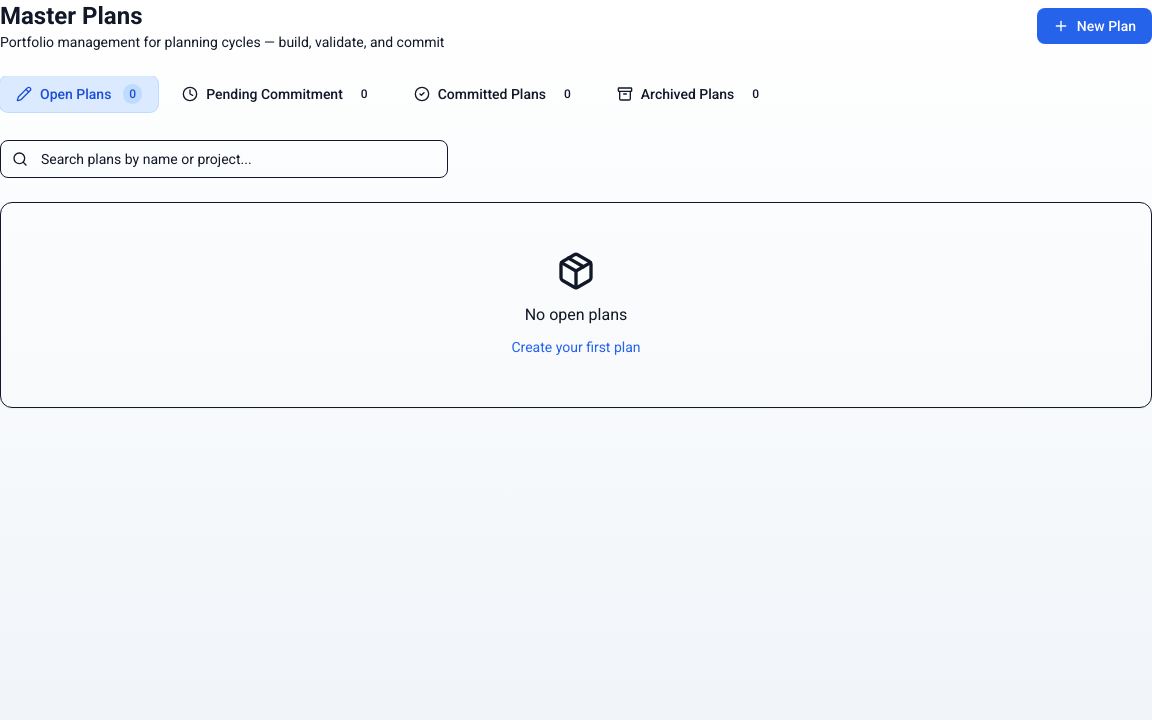
it: MasterPlansPage › opens create plan modal when button clicked
Click the button "New Plan" at [1094, 26], box top-left (1037, 8), bottom-right (1151, 44)
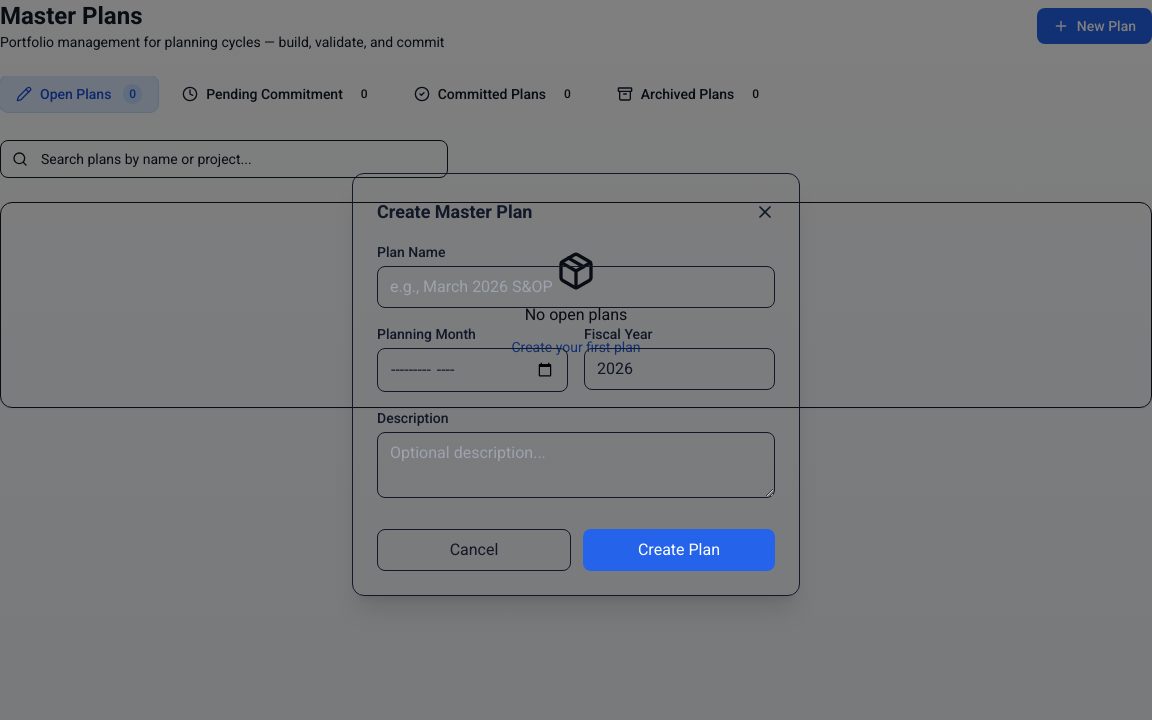
Now the heading "Create Master Plan" is shown, box top-left (377, 198), bottom-right (532, 226)
